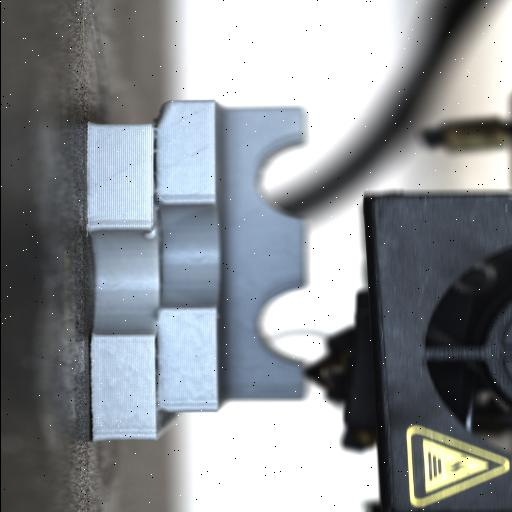layer_shift: (149, 100, 173, 442)
